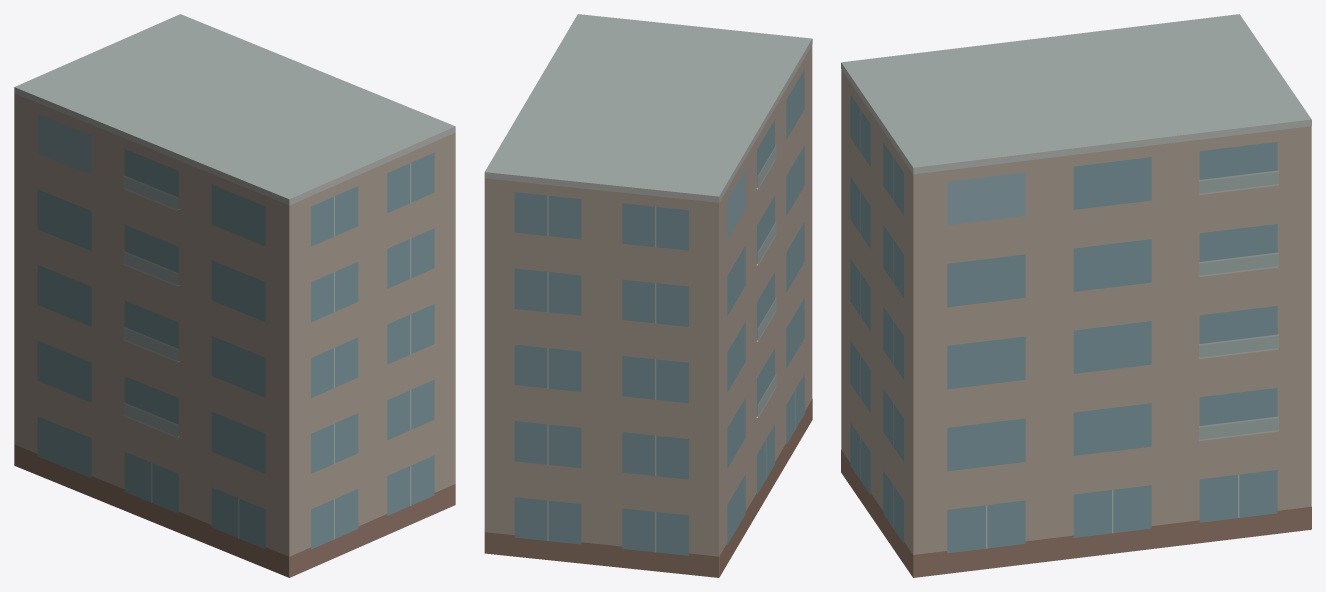
Rendered from survey-upis-32998195.glb.
3 views of the same model, side by side, from view 1: azimuth 30°, elevation 25°; view 2: azimuth 150°, elevation 25°; view 3: azimuth 270°, elevation 25° (orthographic). The views are drawn at different scales.
Parts seen in each view (by area): view 1: survey-upis-32998195.tmp; view 2: survey-upis-32998195.tmp; view 3: survey-upis-32998195.tmp.
Part boxes in pixels (box(x1,y1,x2,y2)): survey-upis-32998195.tmp: box(14, 14, 455, 577); survey-upis-32998195.tmp: box(484, 14, 812, 577); survey-upis-32998195.tmp: box(841, 14, 1311, 577).
Bounding box in the file's own units: 12.11 × 15.05 × 15.66.
